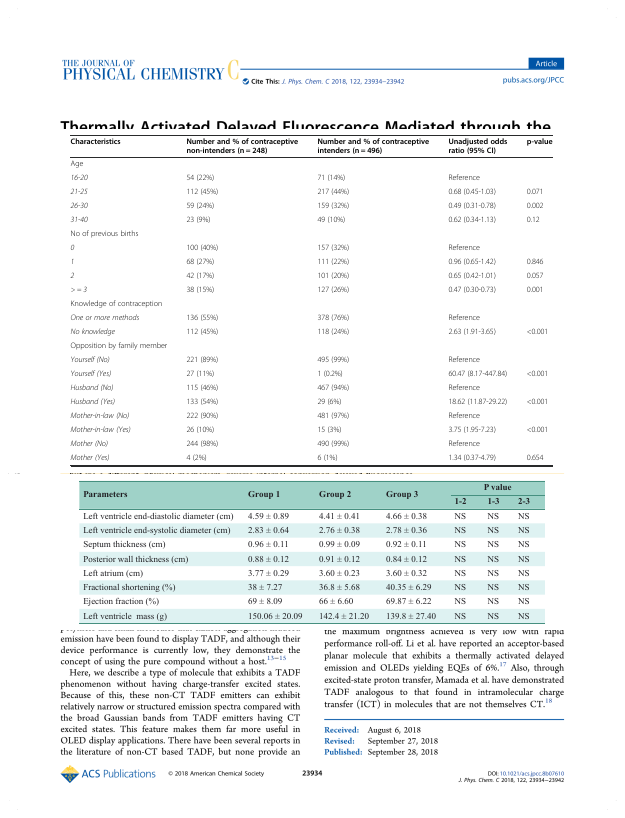borderless: (69, 134, 552, 465), (78, 479, 545, 623)
cell: (185, 138, 299, 156), (316, 138, 430, 156), (81, 512, 234, 522), (81, 526, 231, 536), (447, 138, 508, 156), (81, 555, 189, 565), (70, 342, 168, 352), (81, 583, 176, 593), (81, 540, 166, 551), (70, 300, 163, 310), (81, 612, 167, 622), (81, 597, 159, 608), (70, 230, 139, 240), (70, 314, 140, 323), (81, 569, 143, 579), (447, 370, 508, 380), (447, 398, 508, 408), (247, 612, 303, 622), (70, 426, 132, 435), (70, 412, 130, 421), (385, 597, 432, 608), (318, 612, 369, 622), (385, 612, 436, 622), (447, 188, 497, 198), (447, 202, 497, 212), (447, 216, 497, 226), (447, 258, 497, 268), (447, 272, 497, 282), (447, 286, 497, 296), (447, 328, 497, 338), (447, 426, 497, 436), (447, 454, 497, 464), (385, 583, 432, 593), (70, 138, 122, 147), (247, 540, 289, 551), (318, 540, 360, 551), (385, 540, 427, 551), (82, 491, 128, 501), (70, 328, 116, 338), (247, 512, 289, 522), (318, 512, 360, 522), (385, 512, 427, 522), (247, 526, 289, 536), (318, 526, 360, 536), (385, 526, 427, 536), (247, 555, 289, 565), (318, 555, 360, 565), (385, 555, 427, 565), (247, 569, 289, 579), (318, 569, 360, 579), (385, 569, 427, 579), (318, 583, 360, 593), (70, 398, 116, 407), (247, 597, 283, 608), (318, 597, 354, 608), (70, 384, 114, 393), (70, 370, 112, 379), (70, 356, 111, 365), (247, 583, 283, 593), (70, 454, 110, 463), (70, 440, 109, 449), (384, 491, 419, 501), (247, 491, 281, 501), (318, 491, 352, 501), (447, 174, 481, 184), (185, 188, 219, 198), (316, 188, 350, 198), (316, 202, 350, 212), (185, 244, 219, 254), (316, 244, 350, 254), (447, 244, 481, 254), (316, 258, 350, 268), (316, 272, 350, 282), (316, 286, 350, 296), (185, 314, 219, 324), (316, 314, 350, 324), (447, 314, 481, 324), (185, 328, 219, 338), (316, 328, 350, 338), (185, 356, 219, 366), (316, 356, 350, 366), (447, 356, 481, 366), (185, 384, 219, 394), (316, 384, 350, 394), (447, 384, 481, 394), (185, 398, 219, 408), (185, 412, 219, 422), (316, 412, 350, 422), (447, 412, 481, 422), (185, 440, 219, 450), (316, 440, 350, 450), (447, 440, 481, 450), (482, 484, 512, 494), (185, 174, 215, 184), (316, 174, 346, 184), (185, 202, 215, 212), (316, 216, 346, 226), (185, 258, 215, 268), (185, 272, 215, 282), (185, 286, 215, 296), (185, 370, 215, 380), (185, 426, 215, 436), (316, 370, 344, 380), (185, 216, 211, 226), (316, 398, 342, 408), (316, 426, 342, 436), (526, 138, 553, 147), (526, 328, 549, 338), (526, 370, 549, 380), (526, 398, 549, 408), (526, 426, 549, 436), (185, 454, 207, 464), (316, 454, 338, 464), (526, 188, 544, 198), (526, 202, 544, 212), (526, 258, 544, 268), (526, 272, 544, 282), (526, 286, 544, 296), (526, 454, 544, 464), (70, 174, 88, 183), (70, 188, 88, 197), (70, 202, 88, 211), (70, 216, 88, 225), (70, 286, 88, 295), (453, 540, 467, 551), (486, 540, 500, 551), (453, 597, 467, 608), (486, 597, 500, 608), (526, 216, 541, 226), (517, 540, 530, 551), (517, 597, 530, 608), (453, 498, 467, 508), (486, 498, 500, 508), (516, 498, 530, 508), (453, 512, 467, 522), (486, 512, 500, 522), (453, 526, 467, 536), (486, 526, 500, 536), (453, 555, 467, 565), (486, 555, 500, 565), (453, 569, 467, 579), (486, 569, 500, 579), (453, 583, 467, 593), (486, 583, 500, 593), (453, 612, 467, 622), (486, 612, 500, 622), (70, 160, 84, 170), (517, 512, 530, 522), (517, 526, 530, 536), (517, 555, 530, 565), (517, 569, 530, 579), (517, 583, 530, 593), (517, 612, 530, 622), (70, 244, 75, 253), (70, 258, 75, 267), (70, 272, 75, 281)
